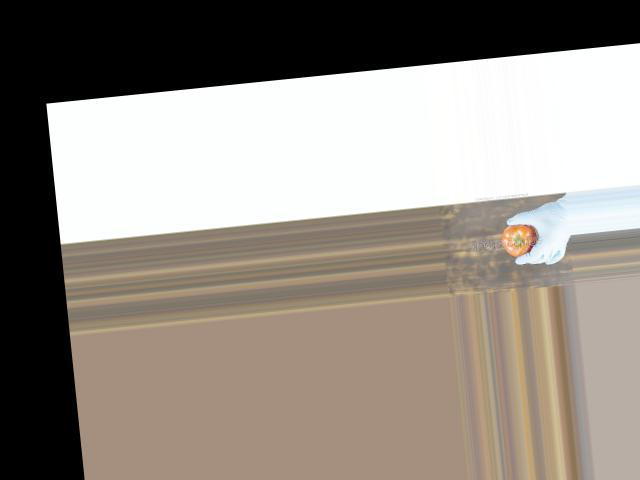tomato: (499, 222, 538, 258)
